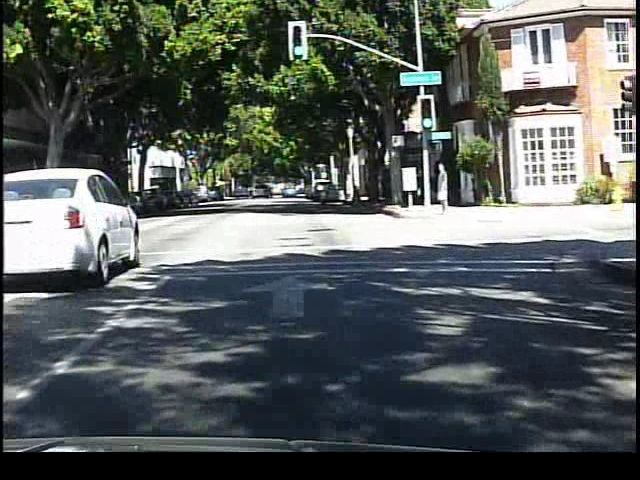person: (432, 158, 453, 218)
